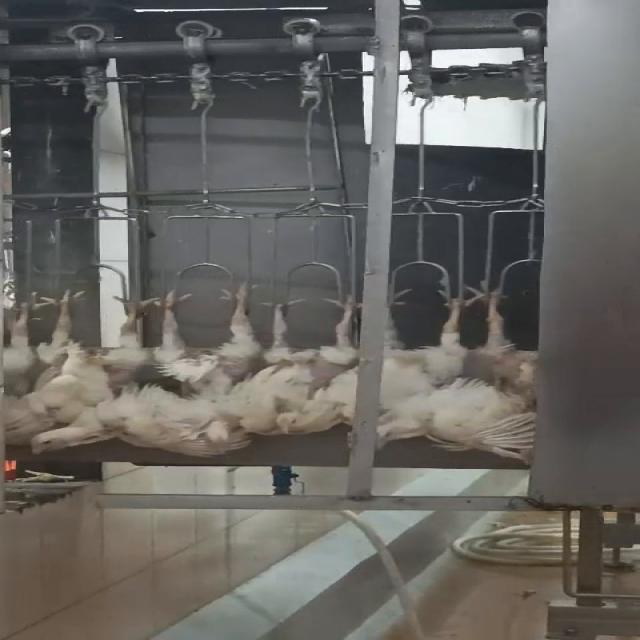chicken: (34, 286, 168, 452), (162, 279, 261, 461), (464, 286, 560, 458), (375, 285, 472, 446), (260, 289, 360, 437), (0, 285, 48, 445)
